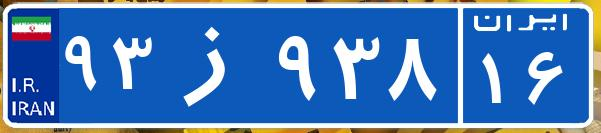1: (475, 38, 525, 113)
3: (330, 28, 385, 110), (110, 28, 158, 105)
6: (525, 38, 570, 115)
8: (385, 28, 445, 110)
9: (273, 28, 330, 110), (57, 26, 110, 107)
ز: (158, 15, 273, 115)
